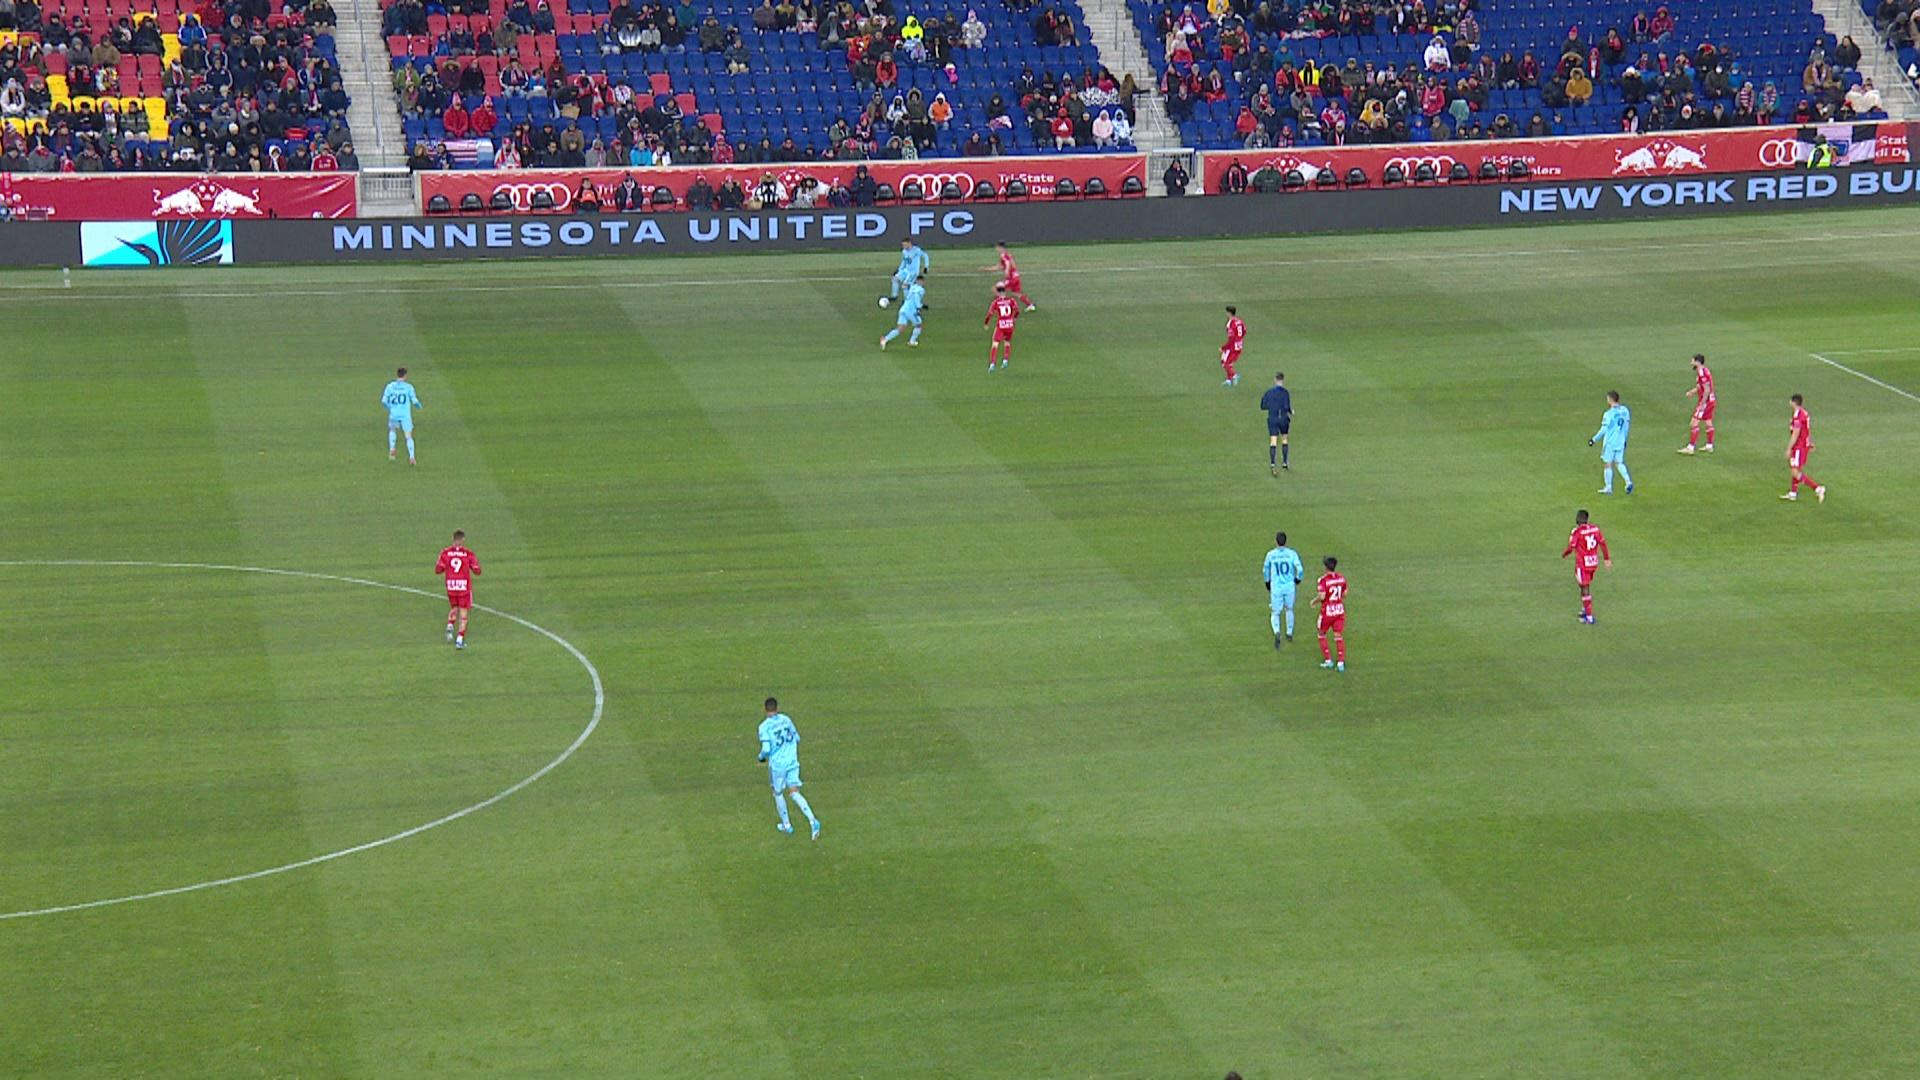football: (878, 297, 890, 310)
